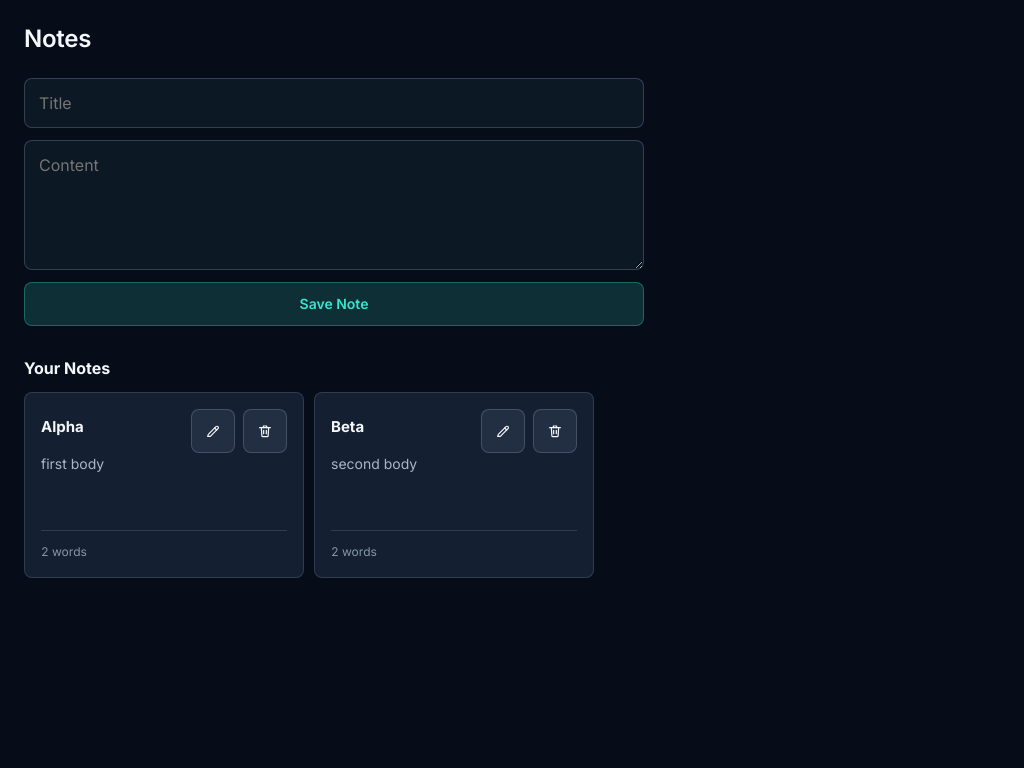
NotesPage › asks for confirmation before deleting and removes the note
Expected: the heading "Alpha" is shown, [41,417,84,436]
Click the button named "Delete Alpha".
click(265, 431)  # box [243,409,287,453]
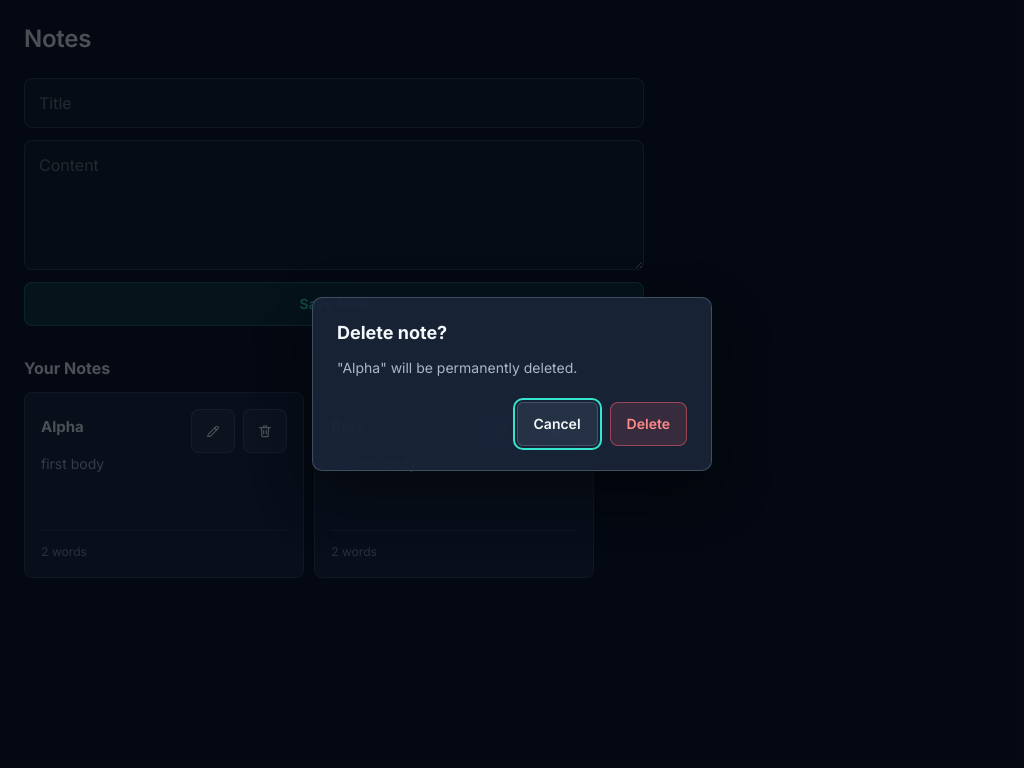
Now the dialog is shown, box [312,297,712,471]
Click the button "Delete".
click(648, 424)  # box [610,402,687,446]
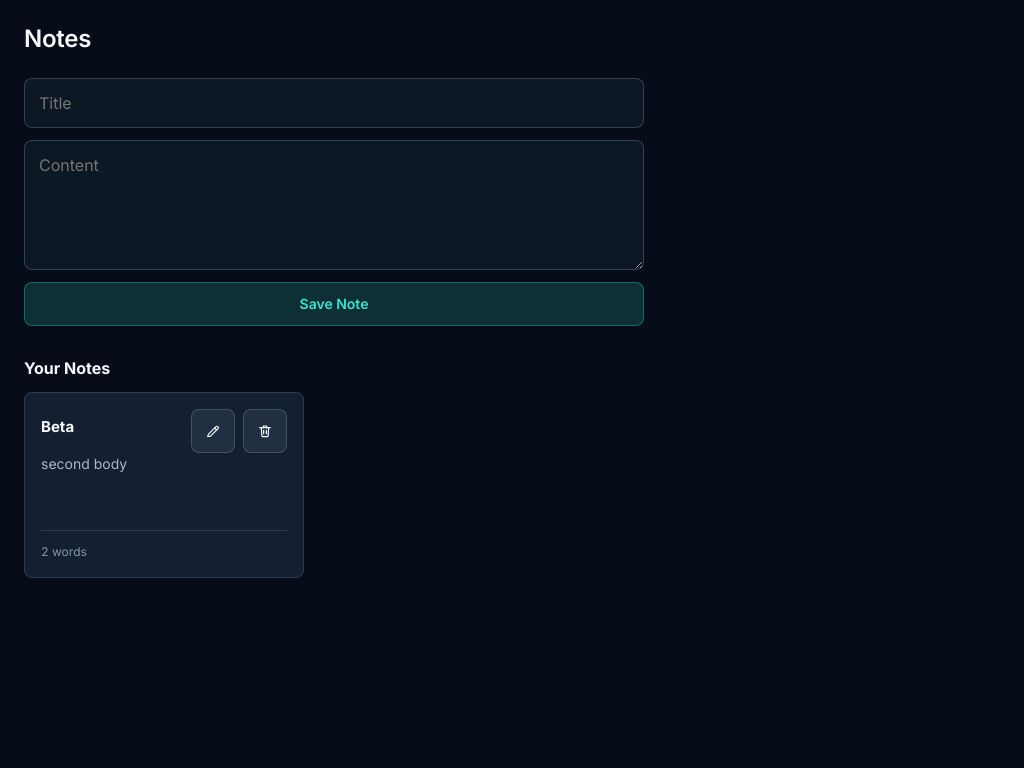
Now the text "first body" is gone
